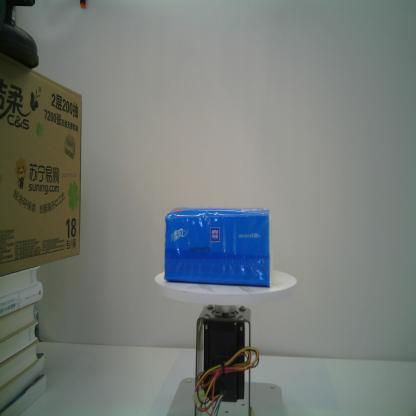Tissue: (162, 206, 272, 288)
